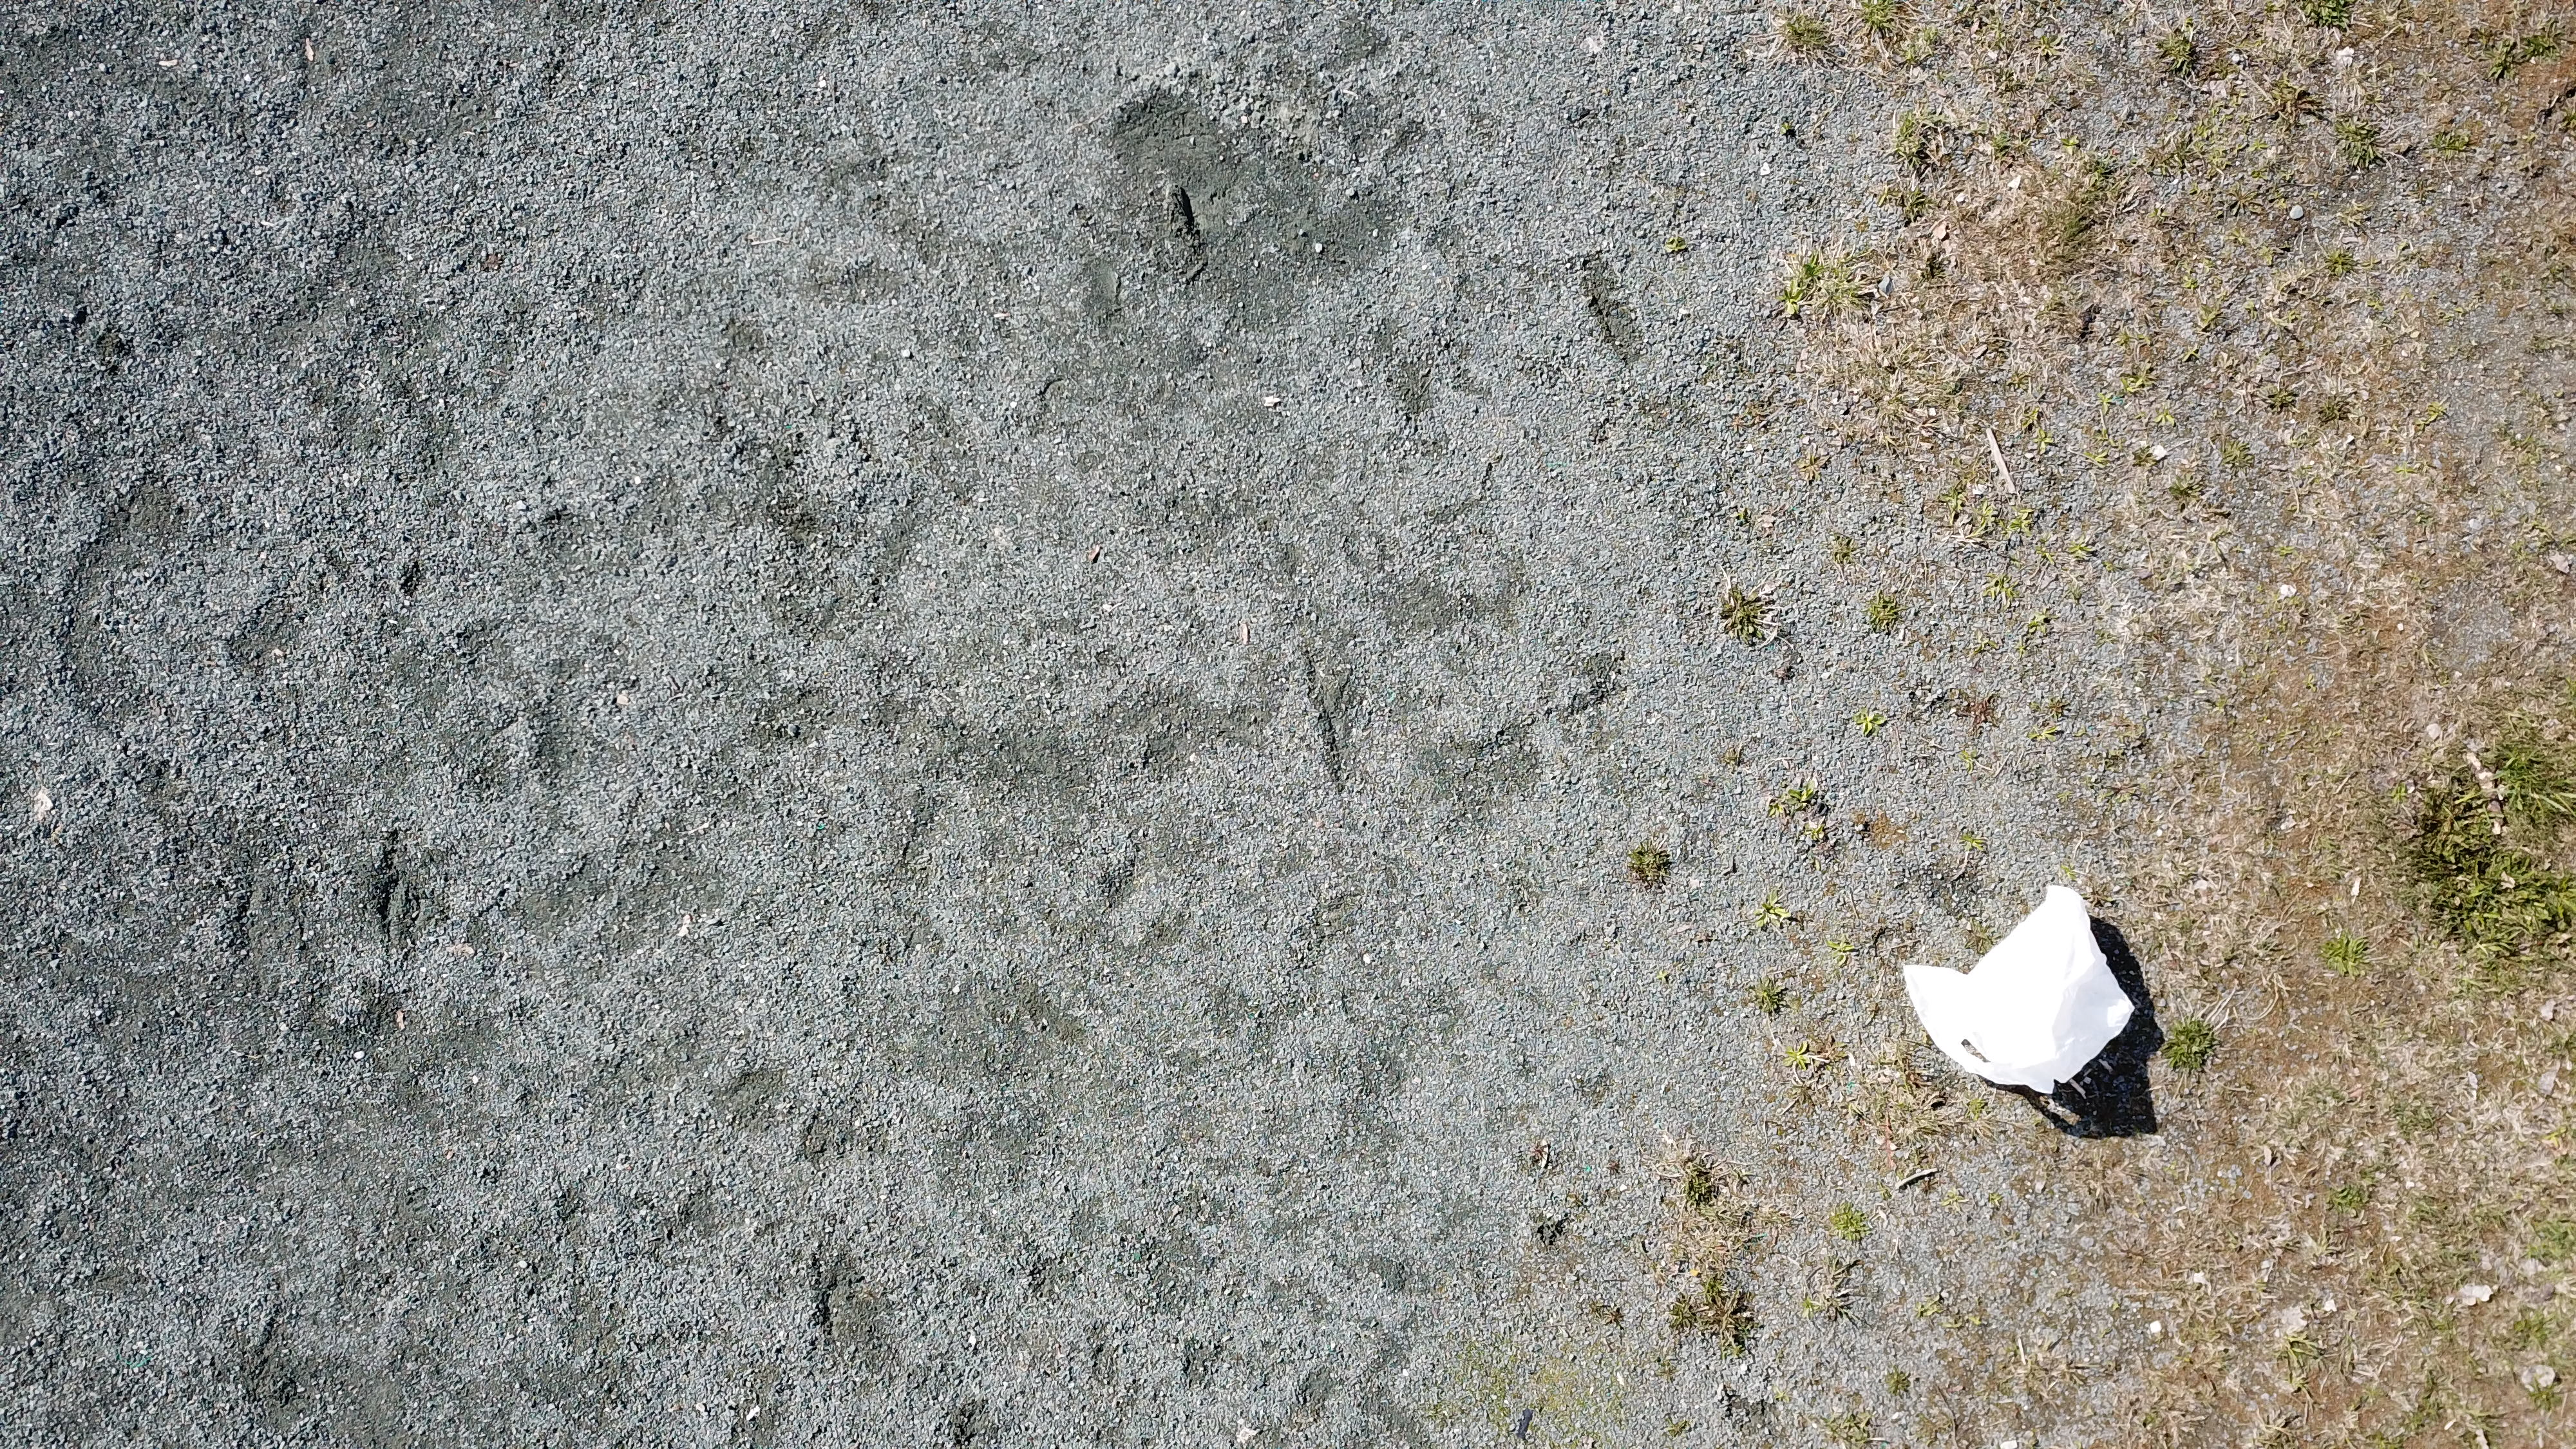Plastic: (1893, 888, 2134, 1100)
